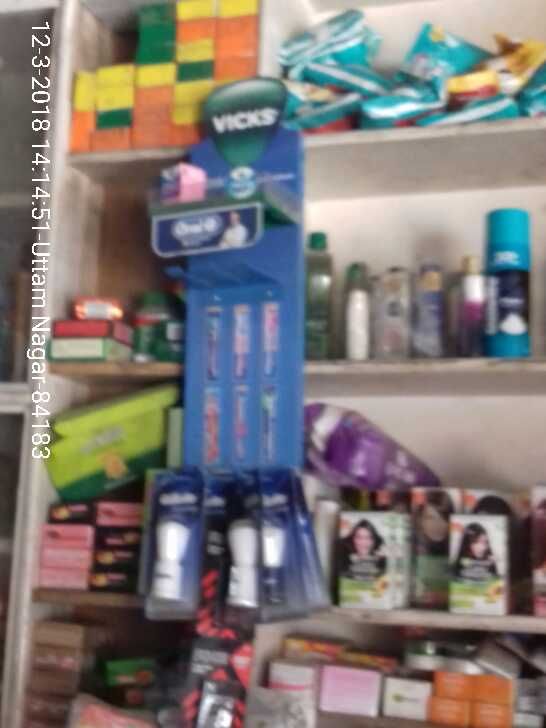gillette: (217, 494, 318, 622), (145, 492, 205, 613)
